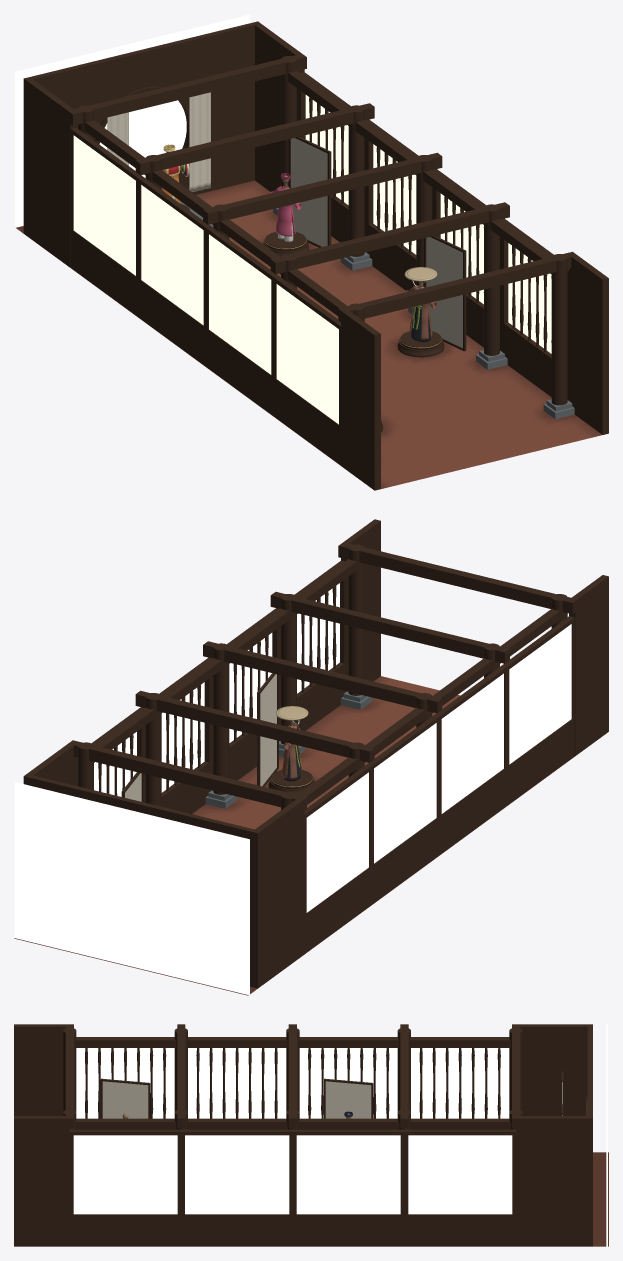
Rendered from viet_phuc_gallery.glb.
The picture shows the model from 3 angles, top to bottom: view 1: azimuth 30°, elevation 25°; view 2: azimuth 150°, elevation 25°; view 3: azimuth 270°, elevation 25°; orthographic projection. The views are drawn at different scales.
Parts seen in each view (by area): view 1: ENV_Floor, ENV_MoonGate_Screen, ENV_Window_L_04, ENV_Window_L_02, ENV_Window_L_03, ENV_Window_L_01, ENV_Wall_Side_L_Rear, ENV_Wall_Side_L_Front, ENV_MoonGate_GlowWall, ENV_Wall_Side_R_Front, ENV_Window_R_01, ENV_Window_R_03 (+20 smaller); view 2: ENV_MoonGate_GlowWall, ENV_Window_L_02, ENV_Window_L_01, ENV_Window_L_03, ENV_Window_L_04, ENV_Wall_Side_L_Rear, ENV_Floor, ENV_Wall_Side_L_Front, ENV_Window_R_01, ENV_Window_R_03, ENV_MoonGate_Screen, ENV_Window_R_02 (+16 smaller); view 3: ENV_Window_R_01, ENV_Window_R_02, ENV_Window_R_04, ENV_Window_R_03, ENV_Wall_Side_R_Rear, ENV_Wall_Side_R_Front, ENV_Window_L_02, ENV_Window_L_04, ENV_Wall_Side_L_Rear, ENV_Window_L_01, ENV_Window_L_03, ENV_Purlin_R (+17 smaller).
Part boxes in pixels (bbox=[...]): ENV_Floor: bbox=[16, 180, 601, 488]; ENV_MoonGate_Screen: bbox=[23, 21, 260, 234]; ENV_Window_L_04: bbox=[70, 127, 143, 316]; ENV_Window_L_02: bbox=[206, 226, 278, 415]; ENV_Window_L_03: bbox=[138, 177, 210, 366]; ENV_Window_L_01: bbox=[273, 276, 340, 465]; ENV_Wall_Side_L_Rear: bbox=[25, 79, 76, 267]; ENV_Wall_Side_L_Front: bbox=[341, 310, 380, 490]; ENV_MoonGate_GlowWall: bbox=[14, 15, 249, 227]; ENV_Wall_Side_R_Front: bbox=[569, 255, 608, 434]; ENV_Window_R_01: bbox=[501, 220, 568, 400]; ENV_Window_R_03: bbox=[366, 121, 438, 290]; ENV_MoonGate_GlowWall: bbox=[14, 782, 249, 994]; ENV_Window_L_02: bbox=[434, 665, 506, 854]; ENV_Window_L_01: bbox=[502, 616, 574, 805]; ENV_Window_L_03: bbox=[367, 715, 439, 904]; ENV_Window_L_04: bbox=[304, 764, 371, 953]; ENV_Wall_Side_L_Rear: bbox=[254, 799, 304, 986]; ENV_Floor: bbox=[14, 676, 574, 995]; ENV_Wall_Side_L_Front: bbox=[569, 575, 608, 756]; ENV_Window_R_01: bbox=[274, 560, 346, 730]; ENV_Window_R_03: bbox=[139, 659, 211, 813]; ENV_MoonGate_Screen: bbox=[23, 775, 260, 988]; ENV_Window_R_02: bbox=[206, 610, 278, 780]; ENV_Window_R_01: bbox=[69, 1129, 181, 1246]; ENV_Window_R_02: bbox=[181, 1129, 292, 1246]; ENV_Window_R_04: bbox=[404, 1129, 515, 1246]; ENV_Window_R_03: bbox=[293, 1129, 404, 1246]; ENV_Wall_Side_R_Rear: bbox=[516, 1116, 590, 1246]; ENV_Wall_Side_R_Front: bbox=[14, 1116, 69, 1246]; ENV_Window_L_02: bbox=[188, 1048, 286, 1118]; ENV_Window_L_04: bbox=[411, 1048, 509, 1118]; ENV_Wall_Side_L_Rear: bbox=[520, 1024, 589, 1115]; ENV_Window_L_01: bbox=[76, 1048, 174, 1118]; ENV_Window_L_03: bbox=[299, 1048, 397, 1118]; ENV_Purlin_R: bbox=[75, 1118, 510, 1129].
Size of the model in its own units: 6 by 3.8 by 16.
